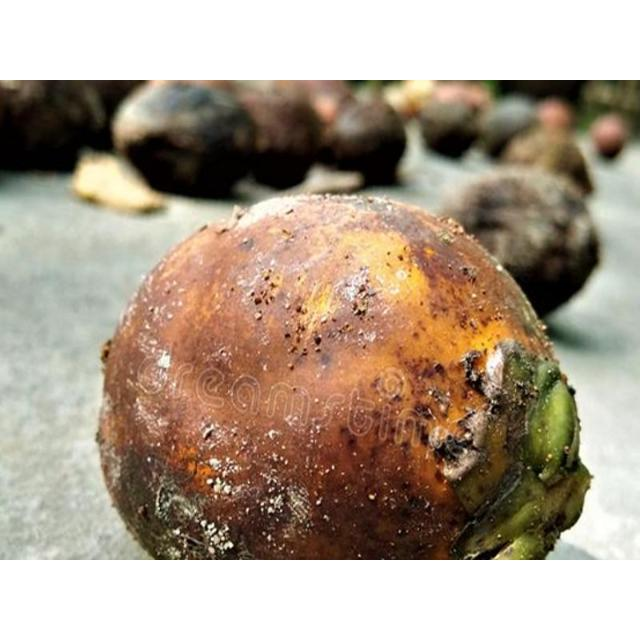damaged: (96, 195, 590, 559)
